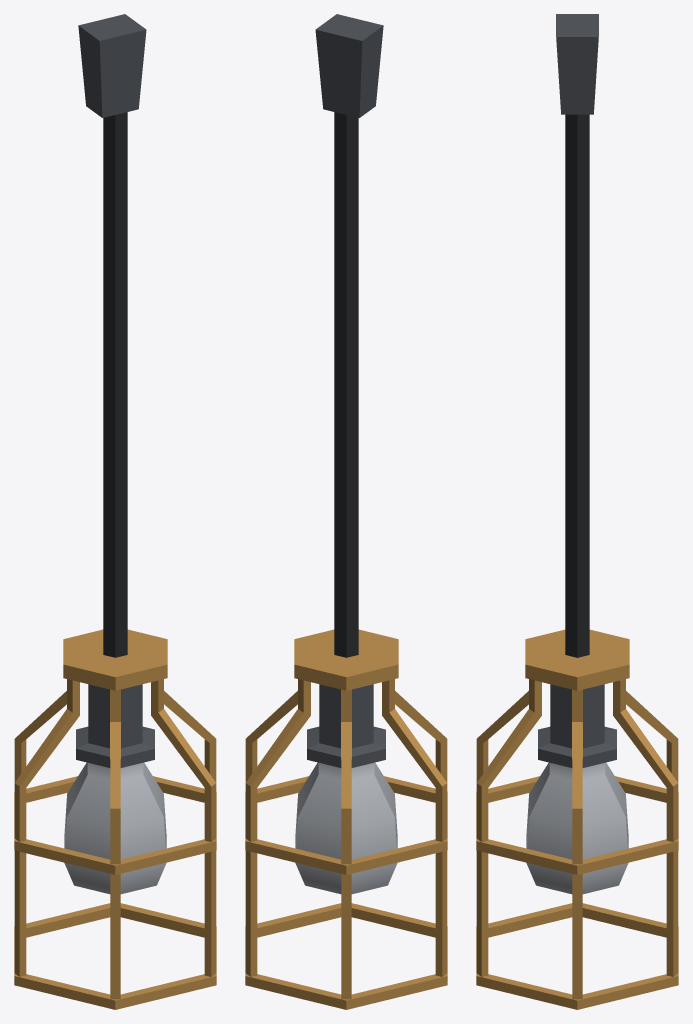
Rendered from SM_Prop_Wire_Lights_02.fbx.
3 views of the same model, side by side, from view 1: azimuth 30°, elevation 25°; view 2: azimuth 150°, elevation 25°; view 3: azimuth 270°, elevation 25° (orthographic).
Visible parts, largest first — view 1: SM_Prop_Wire_Lights_02; view 2: SM_Prop_Wire_Lights_02; view 3: SM_Prop_Wire_Lights_02.
Part boxes in pixels (x1,y1,x2,y2): SM_Prop_Wire_Lights_02: [14, 14, 216, 1009]; SM_Prop_Wire_Lights_02: [245, 14, 447, 1009]; SM_Prop_Wire_Lights_02: [476, 14, 678, 1009].
Bounding box in the file's own units: 21.14 × 93.11 × 18.31.
